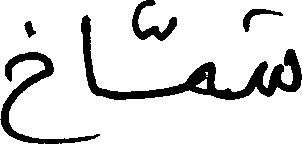X: (0, 16, 55, 143), (253, 4, 301, 101), (79, 10, 96, 143), (189, 57, 215, 101)
